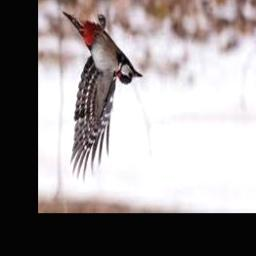Woodpecker: (63, 10, 143, 183)
